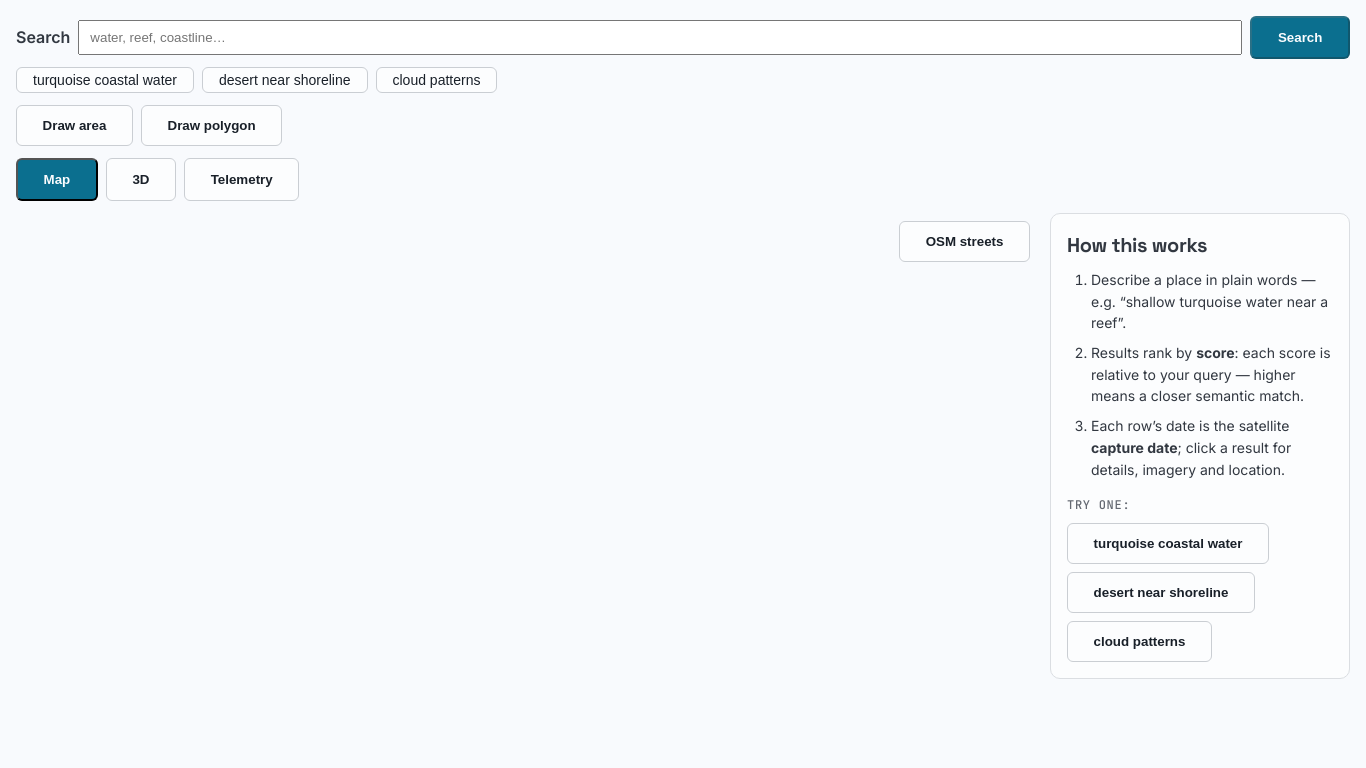
Test: map › opens a score/date popup on marker click and selects the row
The image size is (1366, 768).
Type "water" into the search field labelled "Search" at [660, 38], box [78,20,1242,55]
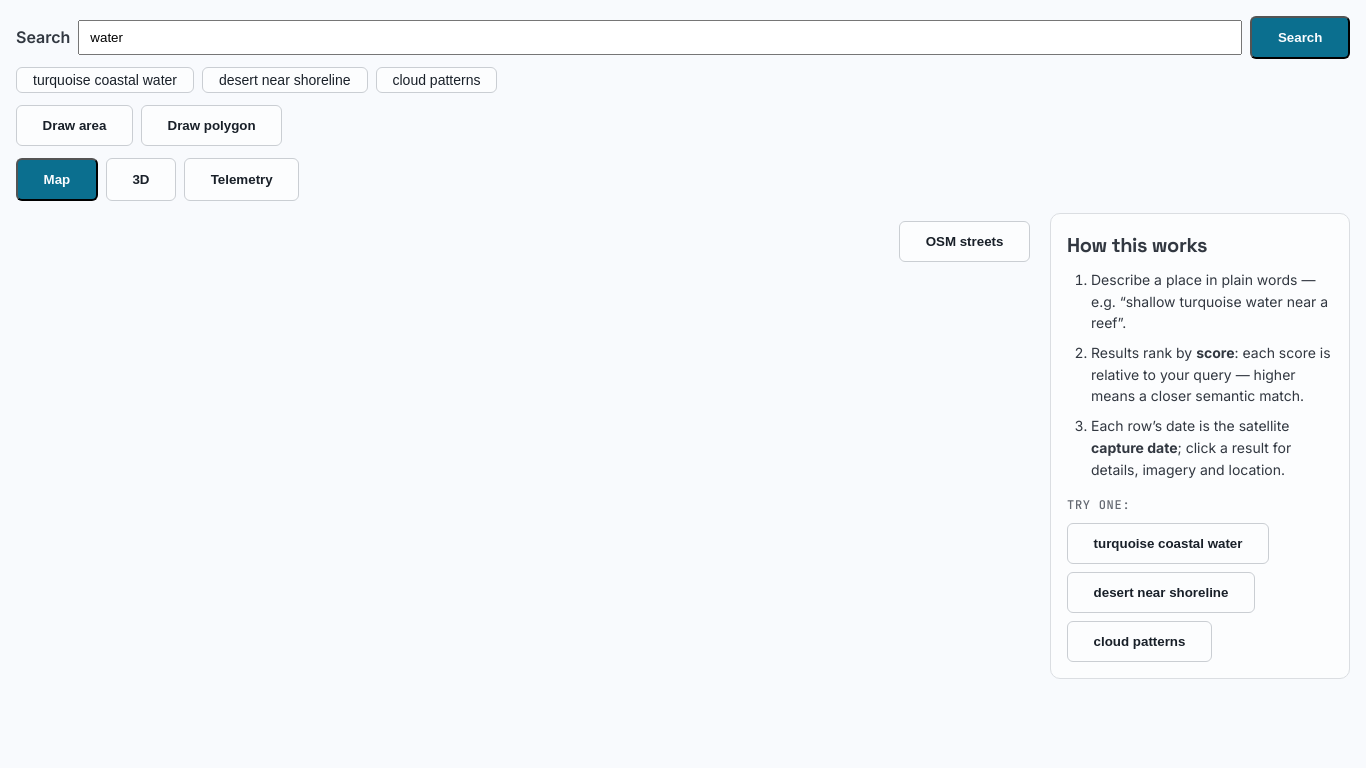
Click the button "Search" at [1300, 38], box [1250,16,1350,59]
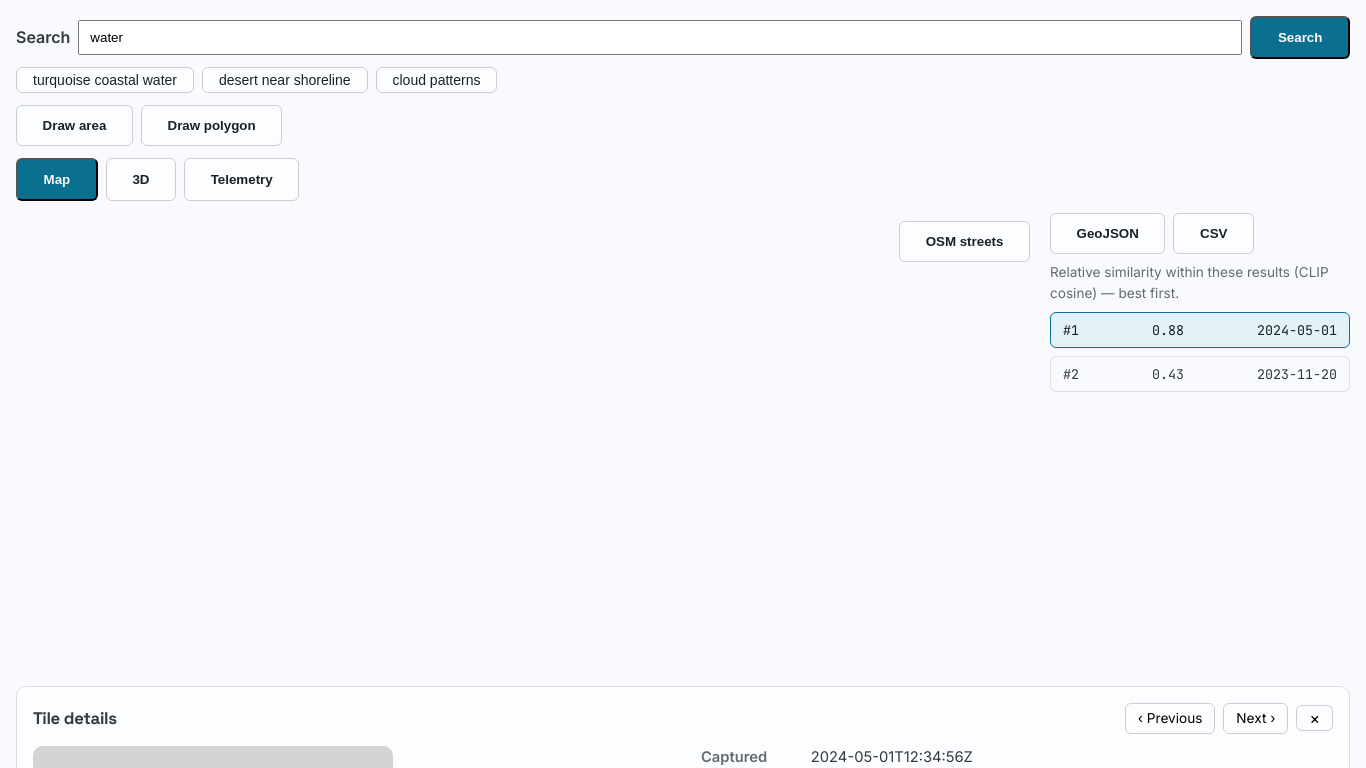
Expected: the text "0.88" is shown, [1152,321,1184,339]
